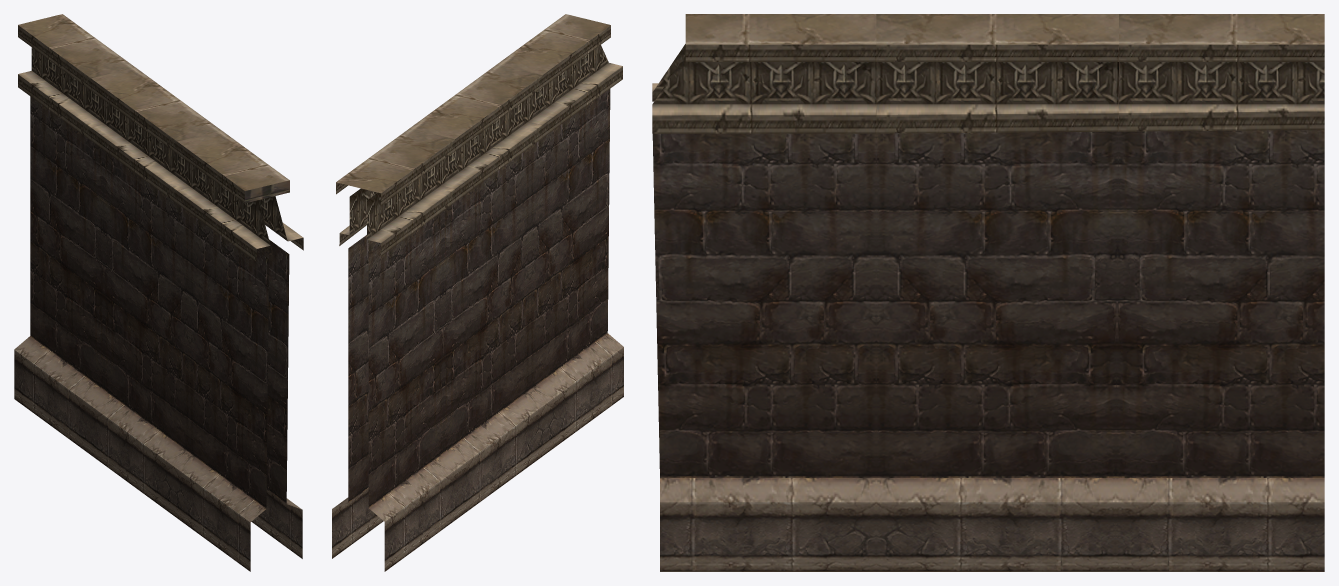
Rendered from blsd_bsqiangm_02.FBX.
The picture shows the model from 3 angles, left to right: view 1: azimuth 30°, elevation 25°; view 2: azimuth 150°, elevation 25°; view 3: azimuth 270°, elevation 25°; orthographic projection. The views are drawn at different scales.
Parts seen in each view (by area): view 1: blsd_bsqiangm_02; view 2: blsd_bsqiangm_02; view 3: blsd_bsqiangm_02.
Part boxes in pixels (bbox=[...]): blsd_bsqiangm_02: bbox=[14, 14, 303, 571]; blsd_bsqiangm_02: bbox=[332, 14, 623, 571]; blsd_bsqiangm_02: bbox=[652, 14, 1324, 571].
Size of the model in its own units: 91.09 by 623 by 723.
